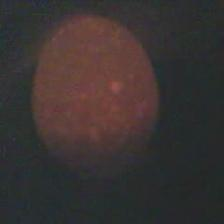fertile: (28, 16, 160, 180)
